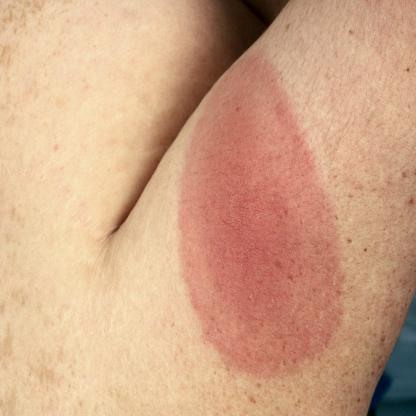Tick: (176, 56, 348, 384)
